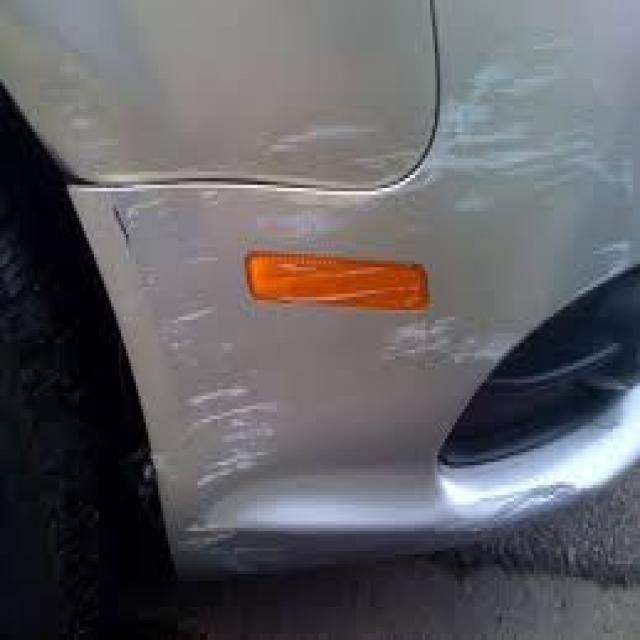minor: (42, 46, 640, 531)
